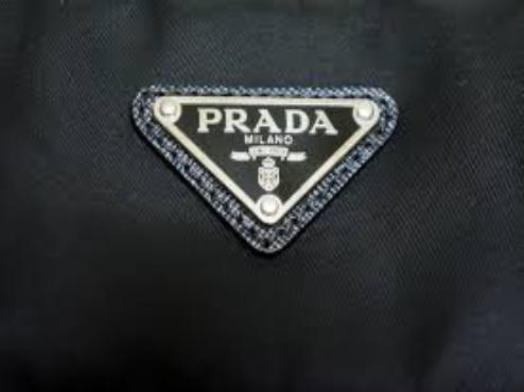PRADA: (194, 100, 336, 137)
